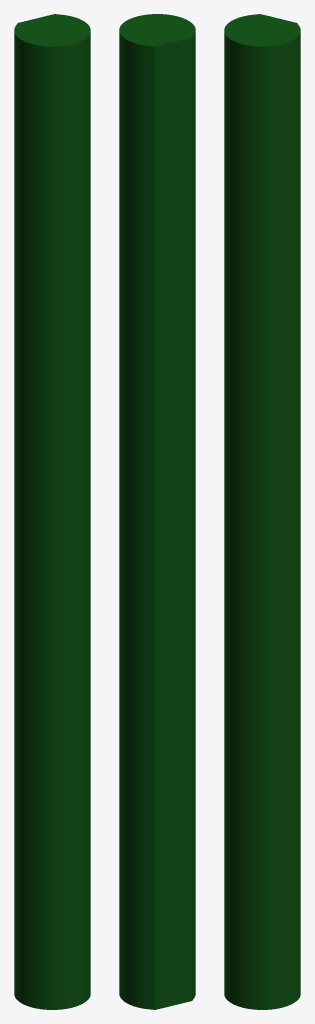
The model's file is stem_3B_0.glb.
The picture shows the model from 3 angles, left to right: view 1: azimuth 30°, elevation 25°; view 2: azimuth 210°, elevation 25°; view 3: azimuth 330°, elevation 25°; orthographic projection.
Parts seen in each view (by area): view 1: stem_3B_0; view 2: stem_3B_0; view 3: stem_3B_0.
Boxes of the visible parts, x1,y1,x2,y2 form: stem_3B_0: (14, 14, 90, 1009); stem_3B_0: (119, 14, 195, 1009); stem_3B_0: (224, 14, 300, 1009).
Bounding box in the file's own units: 0.0072 × 0.1 × 0.00666.
